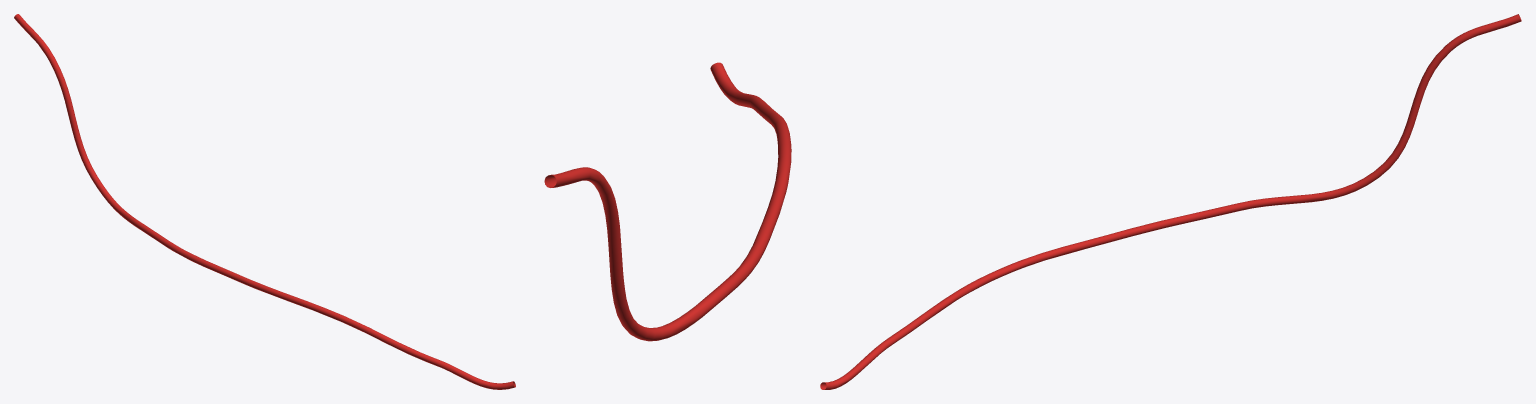
File: circulatorio-greater-palatine-artery-r.glb
3 renders of one model, left to right at view 1: azimuth 30°, elevation 25°; view 2: azimuth 150°, elevation 25°; view 3: azimuth 270°, elevation 25°, orthographic. The views are drawn at different scales.
Visible parts, largest first — view 1: Greater palatine artery.r; view 2: Greater palatine artery.r; view 3: Greater palatine artery.r.
Part boxes in pixels (x1,y1,x2,y2): Greater palatine artery.r: (14, 14, 515, 389); Greater palatine artery.r: (544, 62, 791, 341); Greater palatine artery.r: (820, 14, 1521, 389).
Bounding box in the file's own units: 0.0147 × 0.0142 × 0.035.
